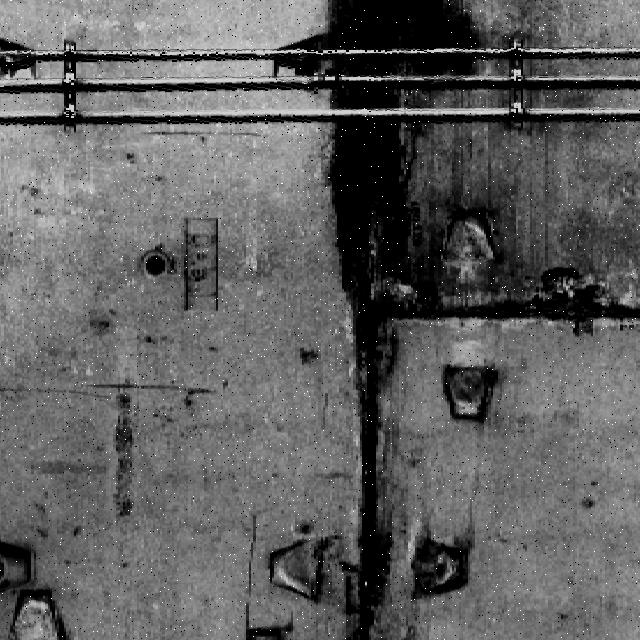leakage: (322, 1, 484, 640)
